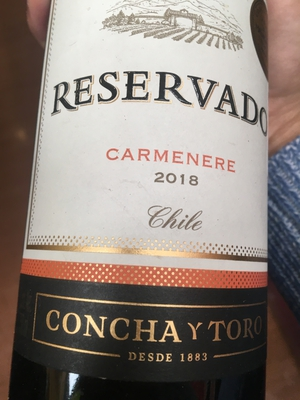reservado carmenere: (12, 6, 270, 400)
